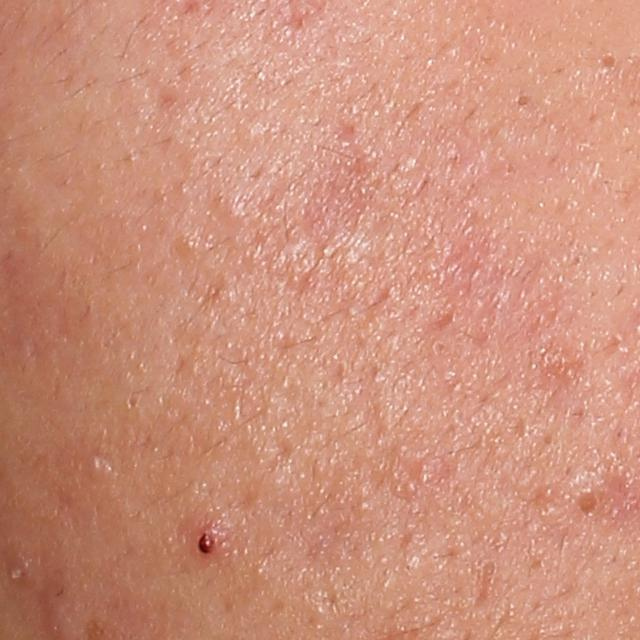atrophic_scar: (293, 116, 376, 250), (473, 556, 497, 611)
comedo: (173, 231, 203, 264), (575, 490, 603, 521), (594, 50, 621, 78), (87, 455, 109, 479), (427, 335, 448, 358), (538, 484, 556, 502), (512, 92, 531, 108)
papule: (185, 515, 238, 571)
